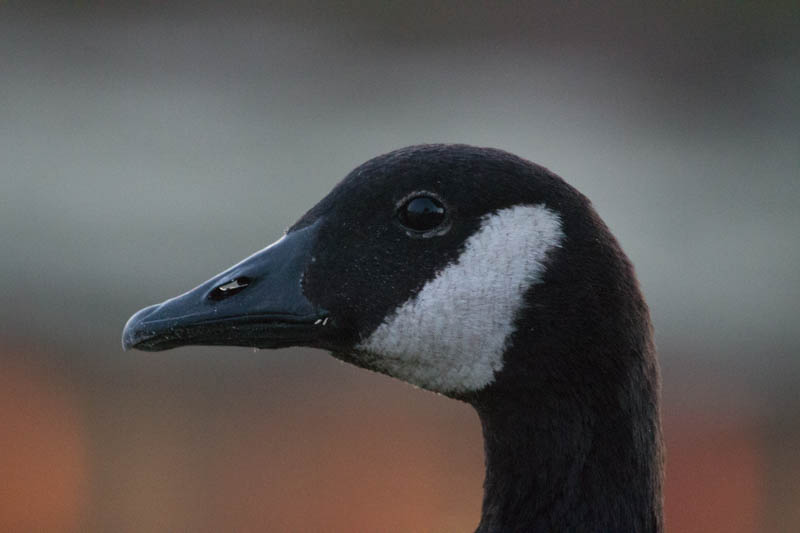goose-head: (122, 143, 655, 407)
